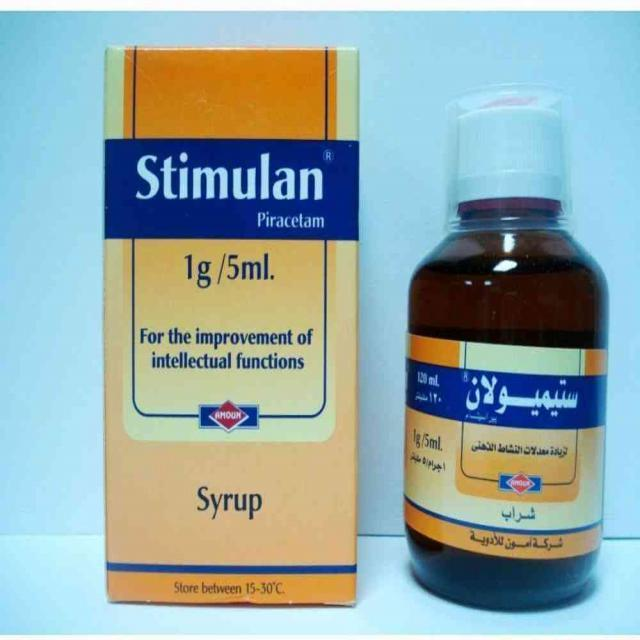drug-name: (135, 150, 326, 203)
